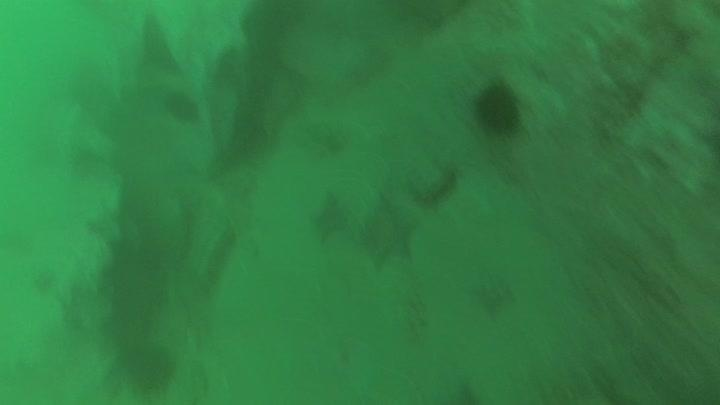echinus: (116, 337, 179, 395), (470, 78, 525, 138), (161, 88, 202, 126)
starfish: (355, 191, 424, 271), (307, 187, 359, 248), (464, 270, 518, 320)
